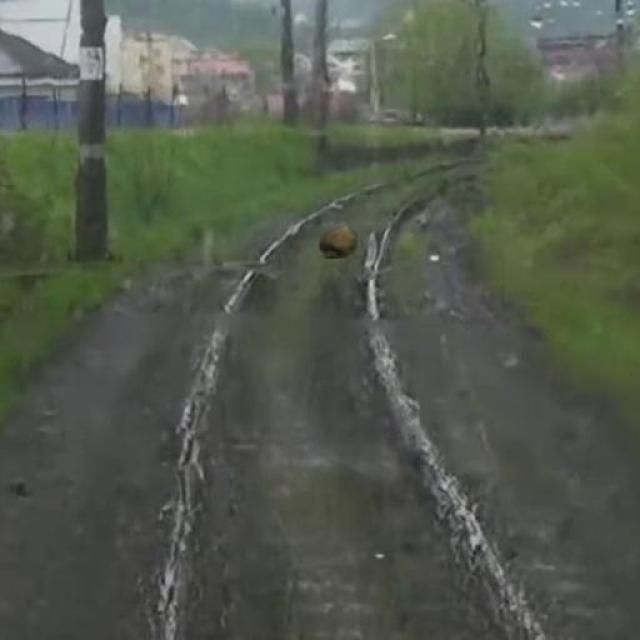Stone: (318, 219, 362, 261)
